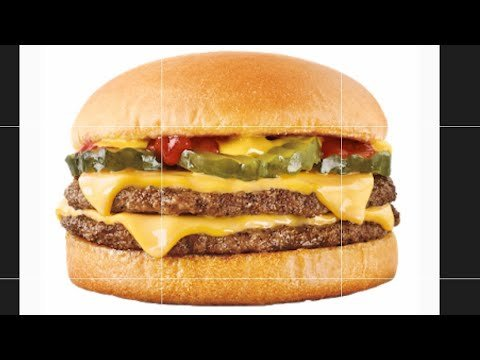soup: (59, 52, 400, 306)
